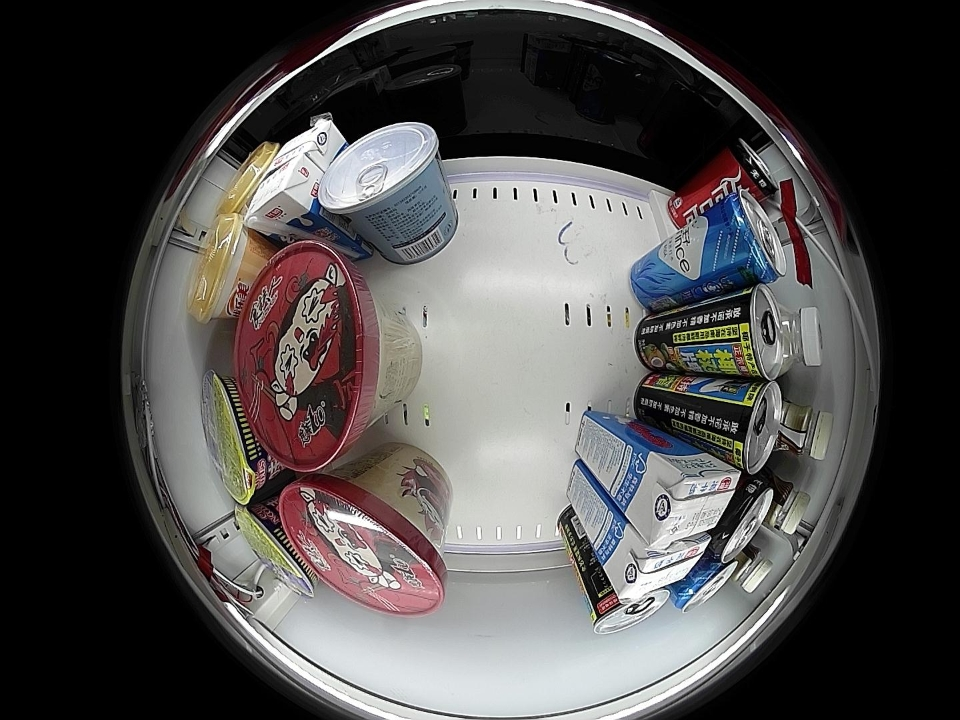haitai: (317, 121, 444, 231)
heweidao: (200, 369, 270, 506), (233, 500, 318, 601)
kafei: (775, 399, 832, 461), (759, 471, 810, 535), (727, 541, 774, 594)
lingdukele: (711, 478, 774, 563), (724, 139, 779, 197)
niunai: (635, 449, 742, 546), (610, 528, 713, 600), (247, 152, 324, 231), (265, 117, 343, 174)
qingdaowangzi-2: (708, 191, 789, 287), (673, 553, 737, 613)
suanlafen: (235, 242, 392, 472), (280, 471, 446, 617)
weiweidounai: (778, 305, 824, 377)
yezhi: (716, 380, 782, 474), (722, 285, 786, 380), (590, 584, 671, 635)
youlemei: (187, 212, 262, 325), (219, 142, 276, 217)
